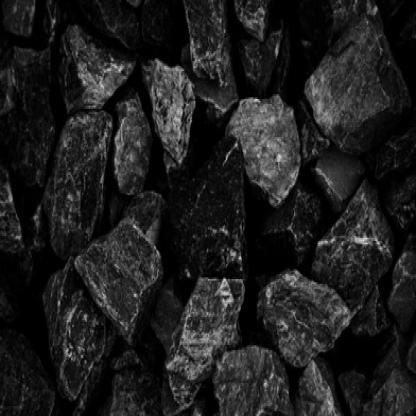Sedimentary_coal: (41, 226, 160, 403), (248, 254, 358, 385), (222, 69, 299, 208), (166, 259, 236, 395), (138, 43, 196, 160), (56, 17, 126, 104)
